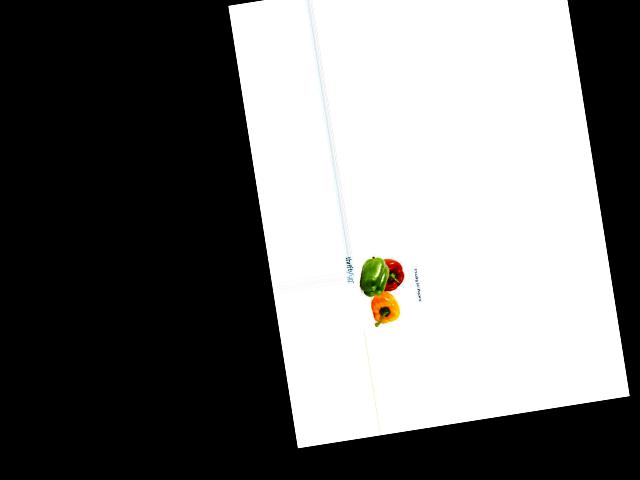bell_pepper: (352, 254, 392, 301)
